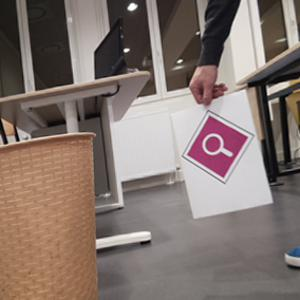search: (182, 110, 254, 184)
